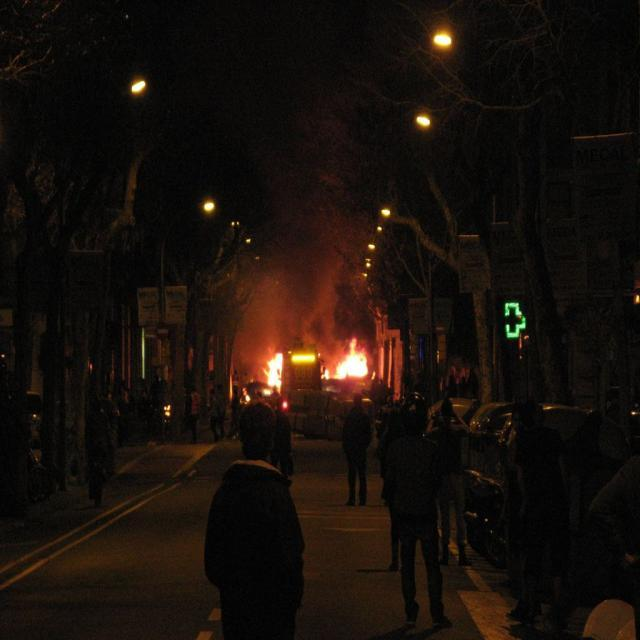Fire: (334, 340, 368, 382), (262, 358, 288, 390)
